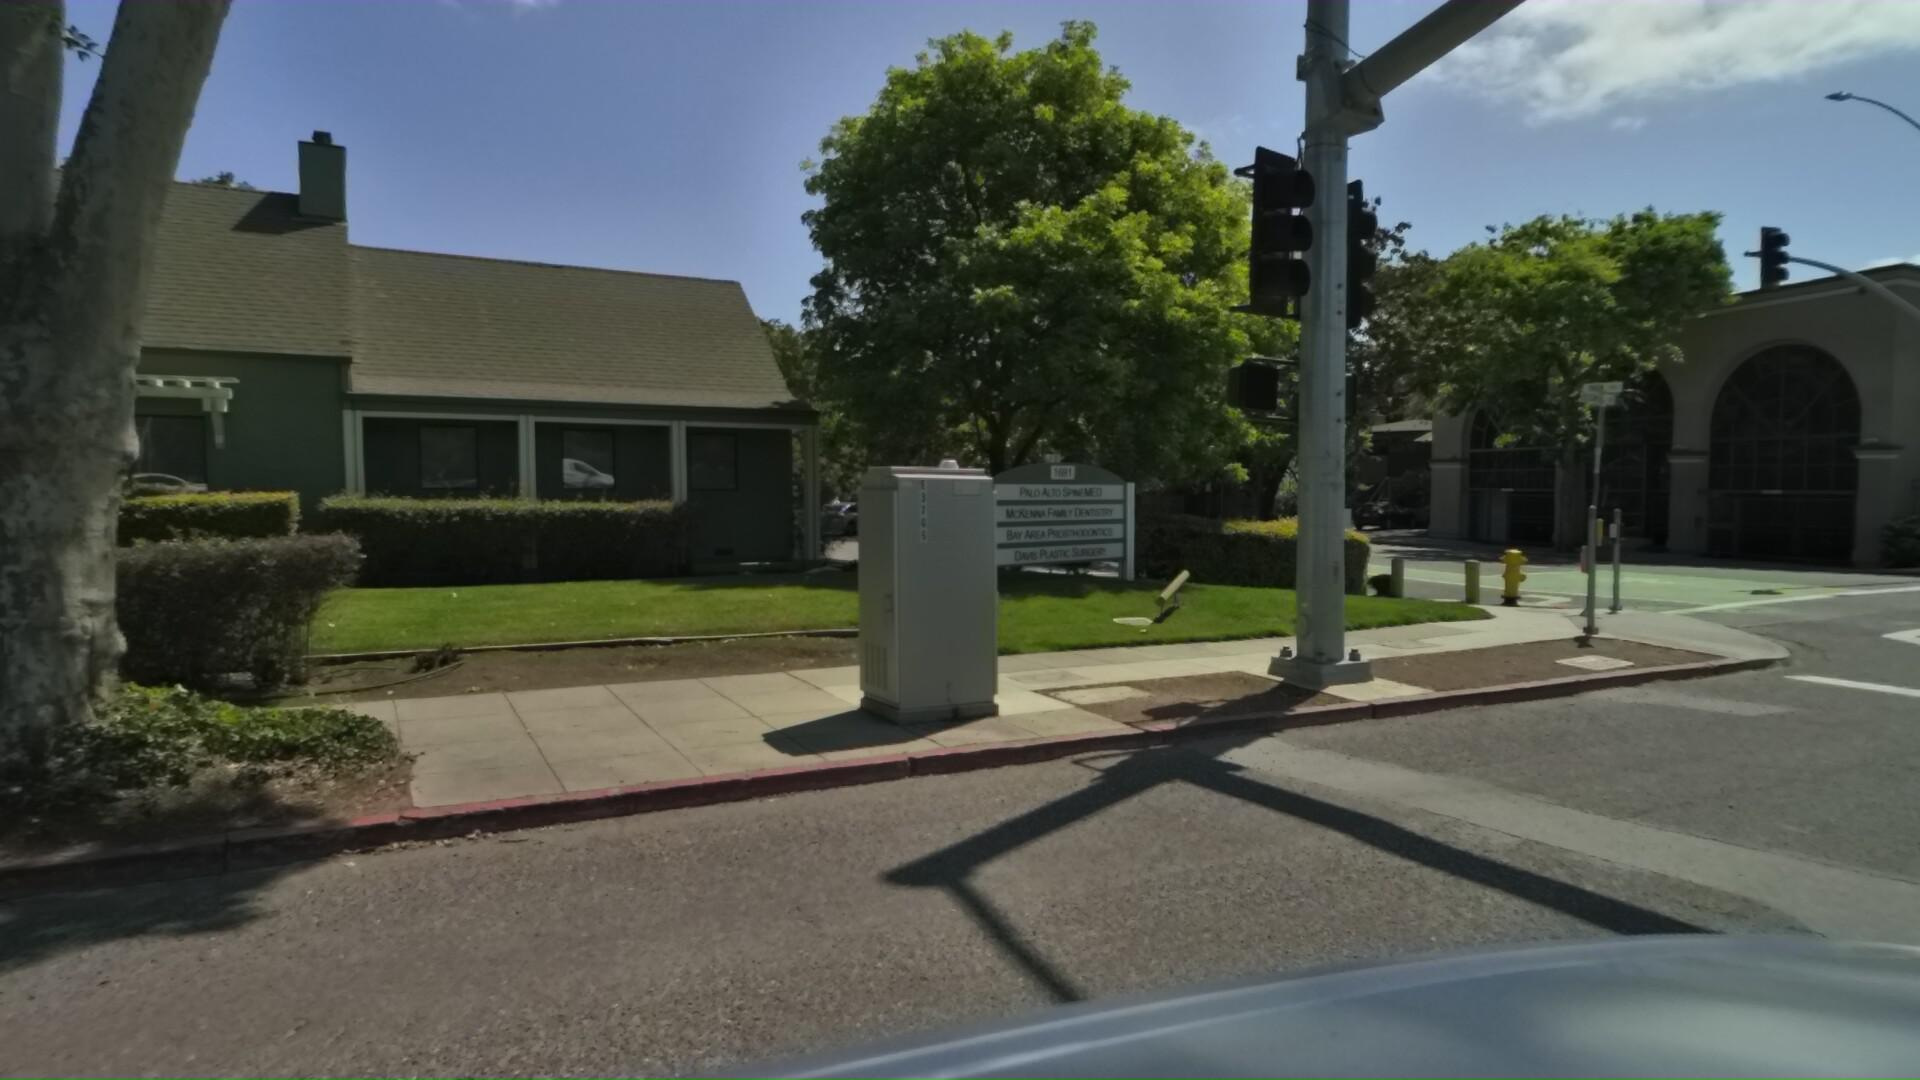car: (1348, 491, 1427, 527)
